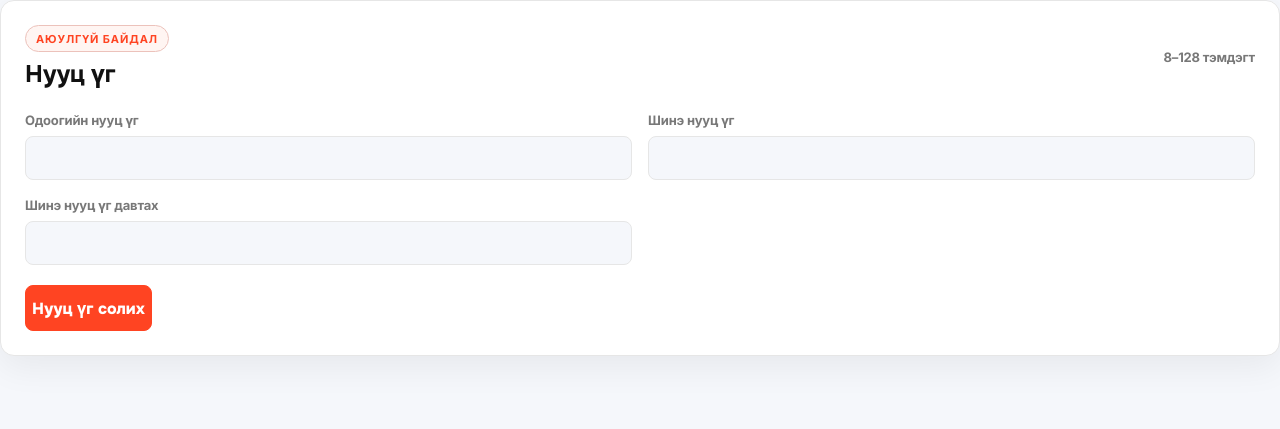
Scenario: PasswordForm › shows a sanitized parent error
In the password field labelled "Одоогийн нууц үг": (328, 158) [25, 136, 632, 180], type "wrong-pass"
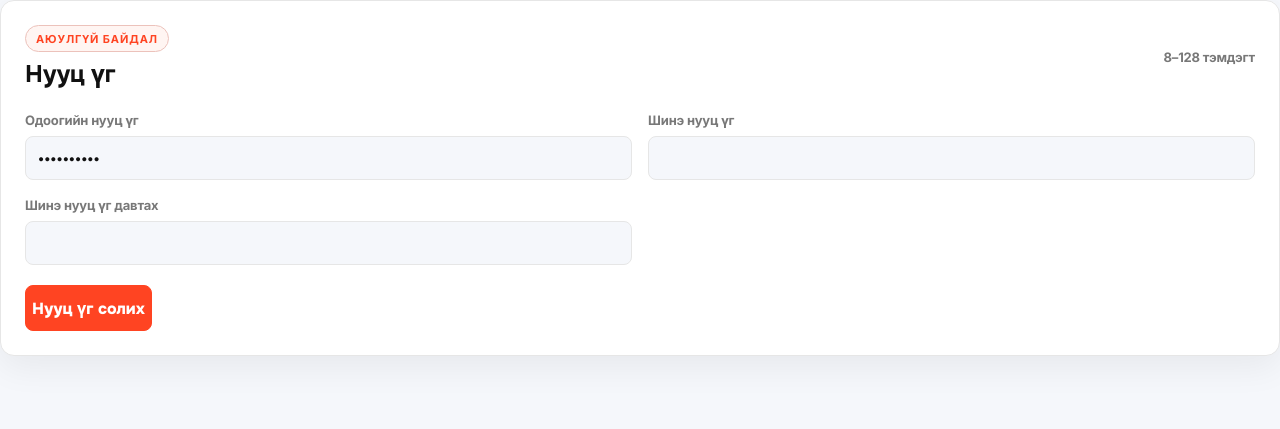
In the password field labelled "Шинэ нууц үг": (952, 158) [648, 136, 1255, 180], type "different123"
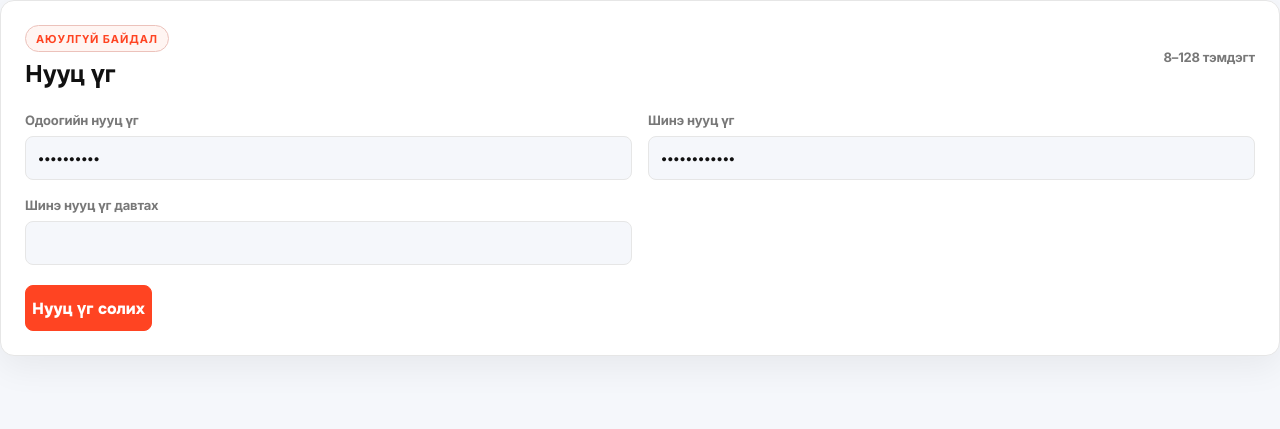
In the password field labelled "Шинэ нууц үг давтах": (328, 243) [25, 221, 632, 265], type "different123"
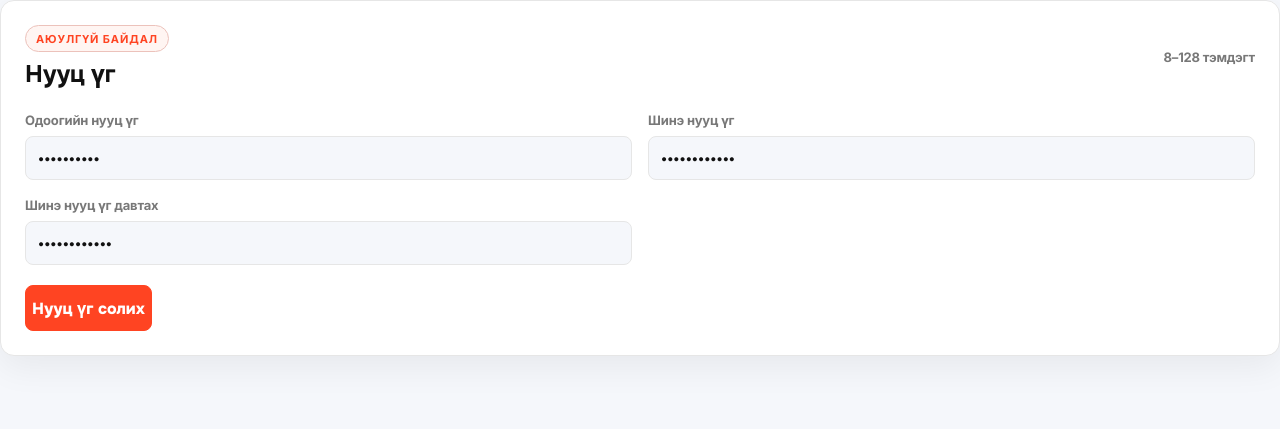
Submit the form named "Нууц үг солих"
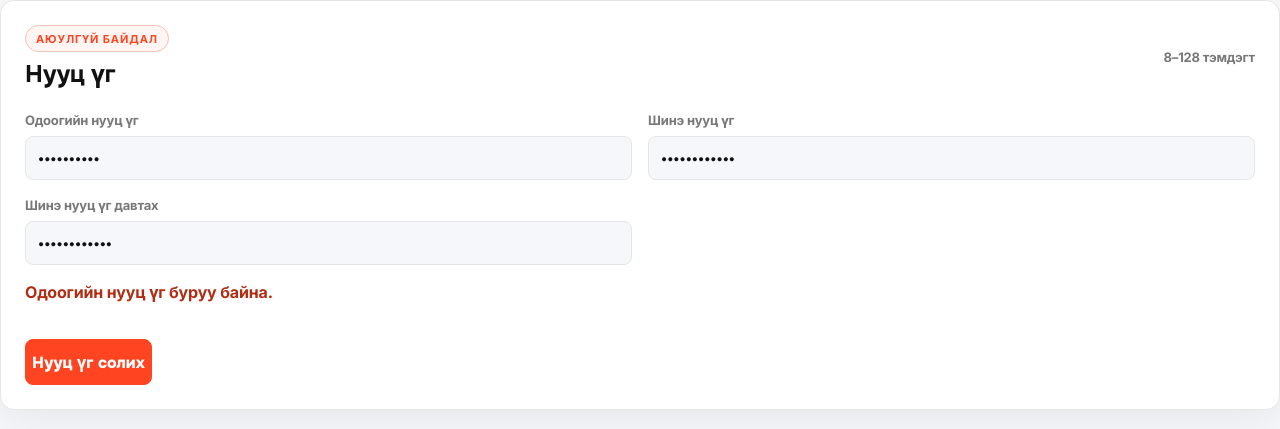
expect the message shows "Одоогийн нууц үг буруу": met, box [25, 282, 273, 302]
